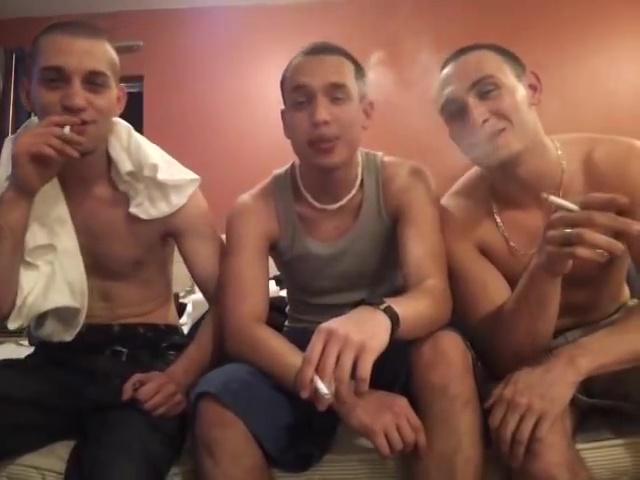cigarette: (539, 191, 588, 212), (312, 369, 334, 401), (63, 124, 70, 136)
